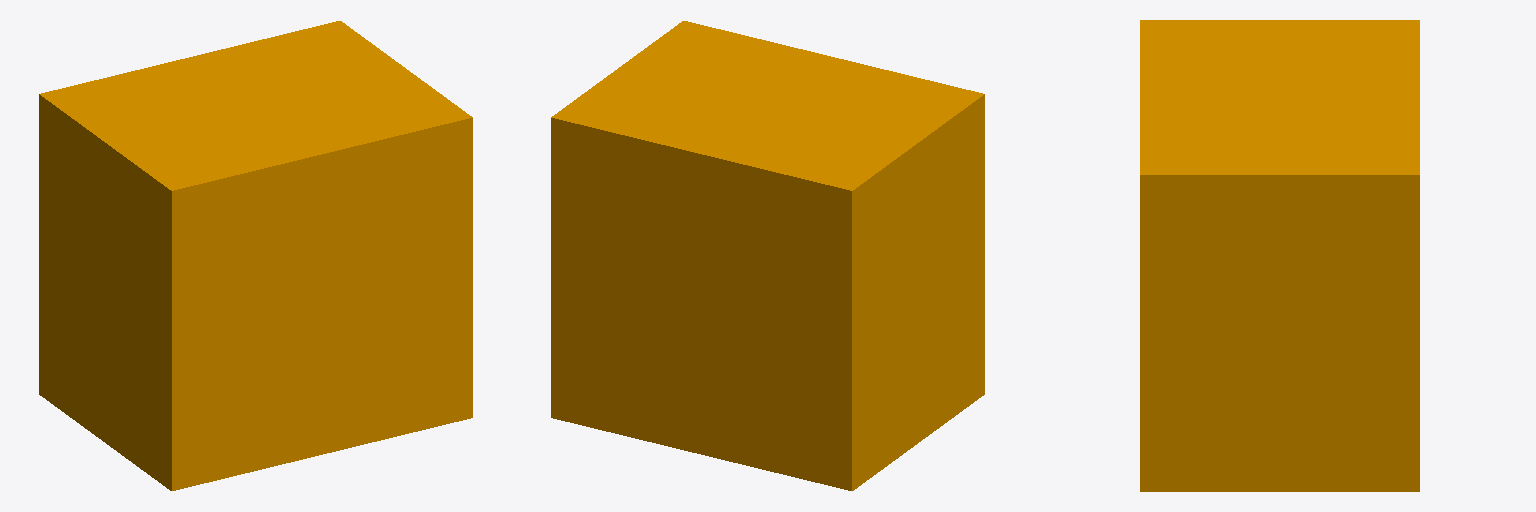
URDF robot description (object):
<robot name="object">
  <link name="object">
    <visual>
      <origin xyz="0 0 0" />
      <geometry>
        <box size="0.08400000000000002 0.064 0.08" />
      </geometry>
    </visual>

    <collision>
      <origin xyz="0 0 0" />
      <geometry>
        <box size="0.08400000000000002 0.064 0.08" />
      </geometry>
    </collision>

    <inertial>
      <mass value="0.05" />
      <inertia ixx="0.0001" ixy="0.0" ixz="0.0" iyy="0.0001" iyz="0.0" izz="0.0001" />
    </inertial>
  </link>
</robot>

--- What the picture shows (computed from the rendered views, not written in the file) ---
3 views of the same robot in one strip: view 1: azimuth 30°, elevation 25°; view 2: azimuth 150°, elevation 25°; view 3: azimuth 270°, elevation 25° (orthographic).
Model object with 1 links and 0 joints (none), rooted at object, posed all joints at 0.
Links seen in each view (by area): view 1: object; view 2: object; view 3: object.
Boxes of the visible links, bbox=[...] form: object: bbox=[39, 21, 472, 490]; object: bbox=[551, 21, 984, 490]; object: bbox=[1140, 20, 1419, 491].
Size in the robot's own frame: 0.084 by 0.064 by 0.08 metres.
Geometry: primitives only (box / cylinder / sphere), no mesh files.